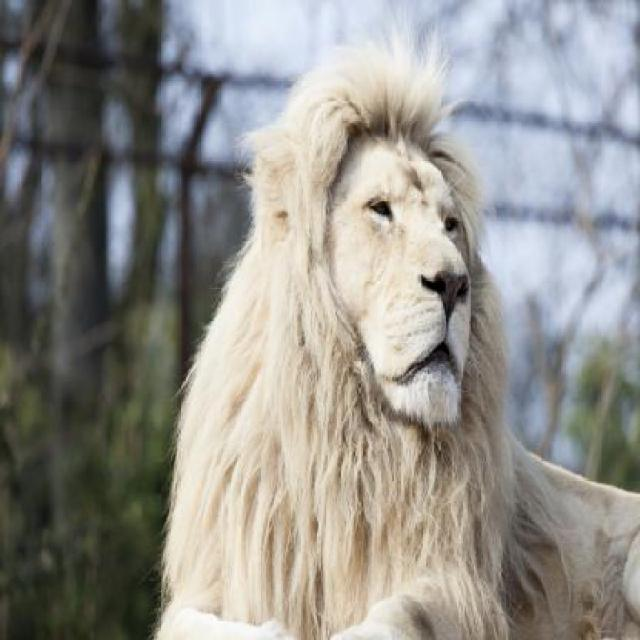Lion: (135, 49, 636, 638)
